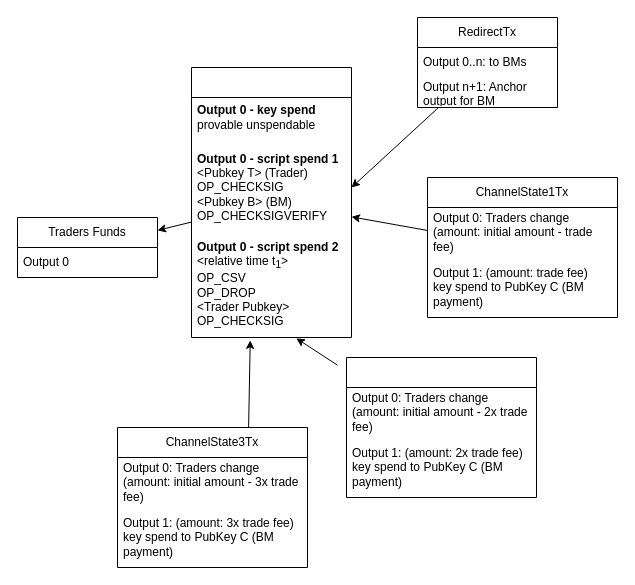
Image size: 635x585. Some labels were removed from this diagram. Here are the shapes that lost their labels. From the top down, the box of each, then its label:
(190, 66, 352, 338): ChannelTx
(346, 356, 536, 498): ChannelState2Tx
